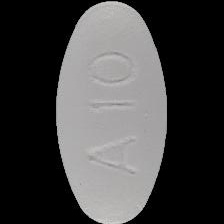60505-2578: (0, 0, 224, 224)
